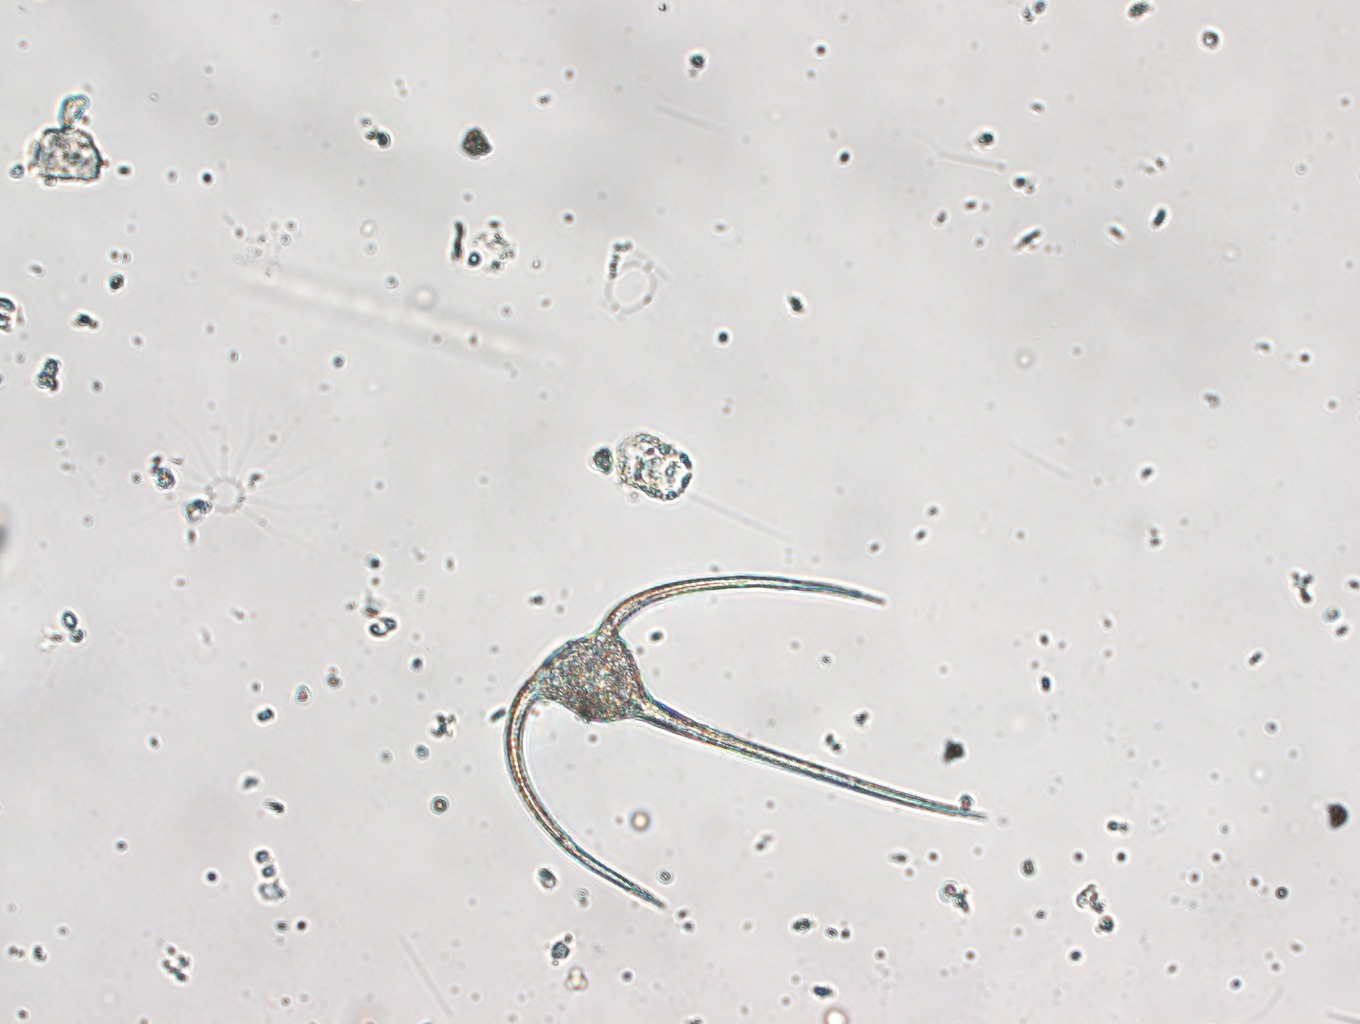ceratium trichoceros: (504, 577, 990, 911)
